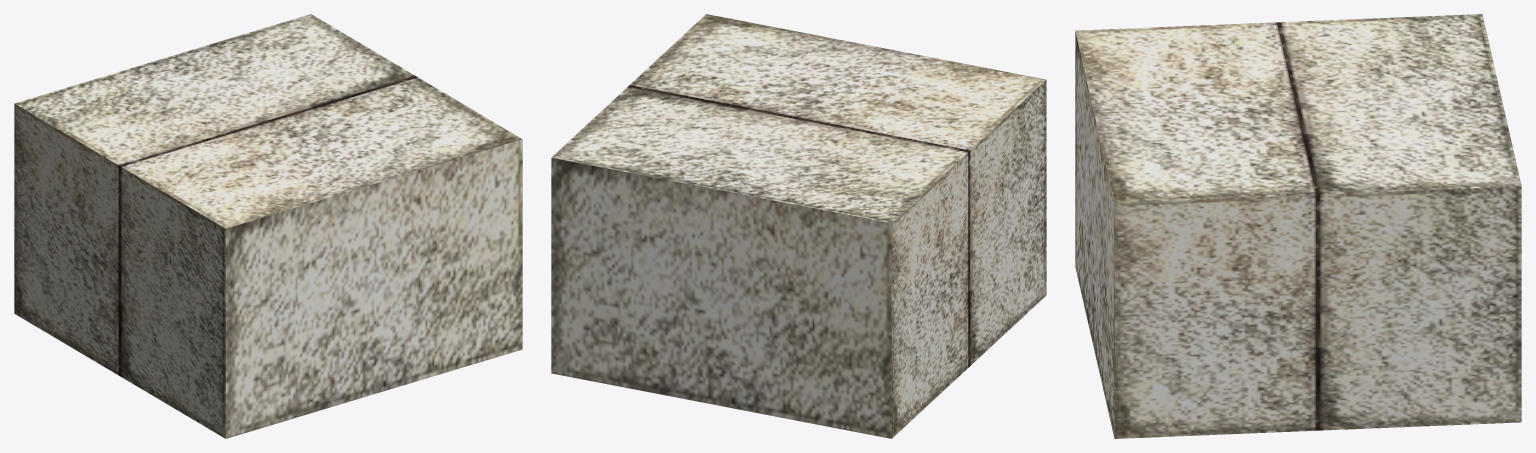
The model's file is stone_2.glb.
3 renders of one model, left to right at view 1: azimuth 30°, elevation 25°; view 2: azimuth 150°, elevation 25°; view 3: azimuth 270°, elevation 25°, orthographic. The views are drawn at different scales.
Visible parts, largest first — view 1: stone_2.001; view 2: stone_2.001; view 3: stone_2.001.
Boxes of the visible parts, <box> form: stone_2.001: <box>14,14,522,438</box>; stone_2.001: <box>551,14,1046,438</box>; stone_2.001: <box>1075,14,1521,438</box>.
Bounding box in the file's own units: 63.91 × 37.26 × 63.84.
1 material, 1 textured.
